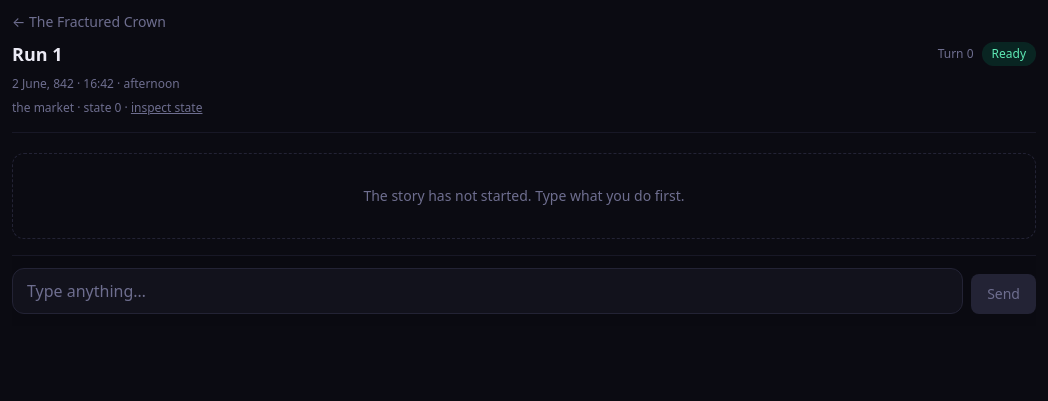
Scenario: SessionPage › sends an action and shows the returned suggestions
Expected: the heading "Run 1" is shown, x1=12 y1=40 x2=62 y2=68
Type "I greet Elena" into the text box with placeholder "Type anything…".
click(488, 291); type("I greet Elena")  # box x1=12 y1=268 x2=963 y2=314
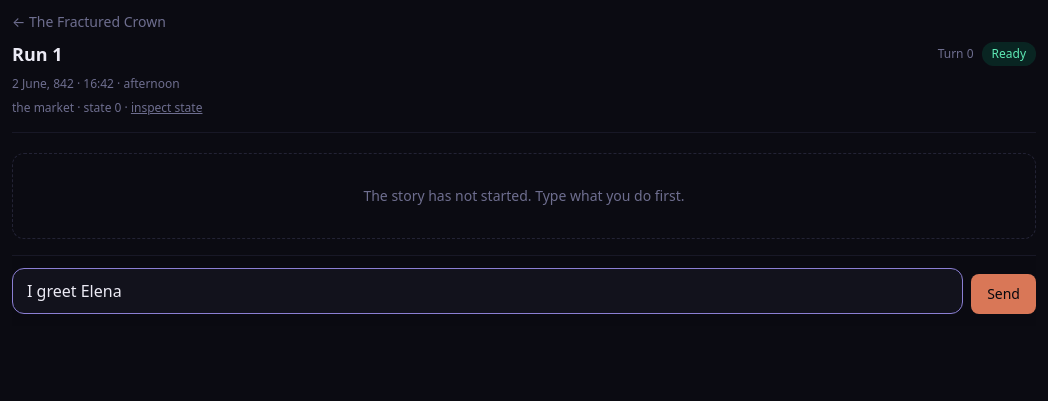
Click the button "Send".
click(1004, 294)  # box x1=971 y1=274 x2=1036 y2=314
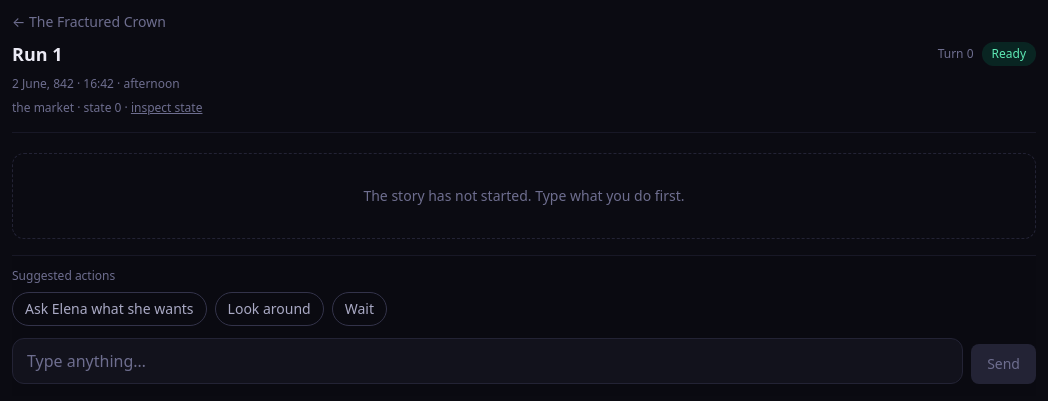
Now the button "Ask Elena what she wants" is shown, box x1=12 y1=292 x2=207 y2=326
